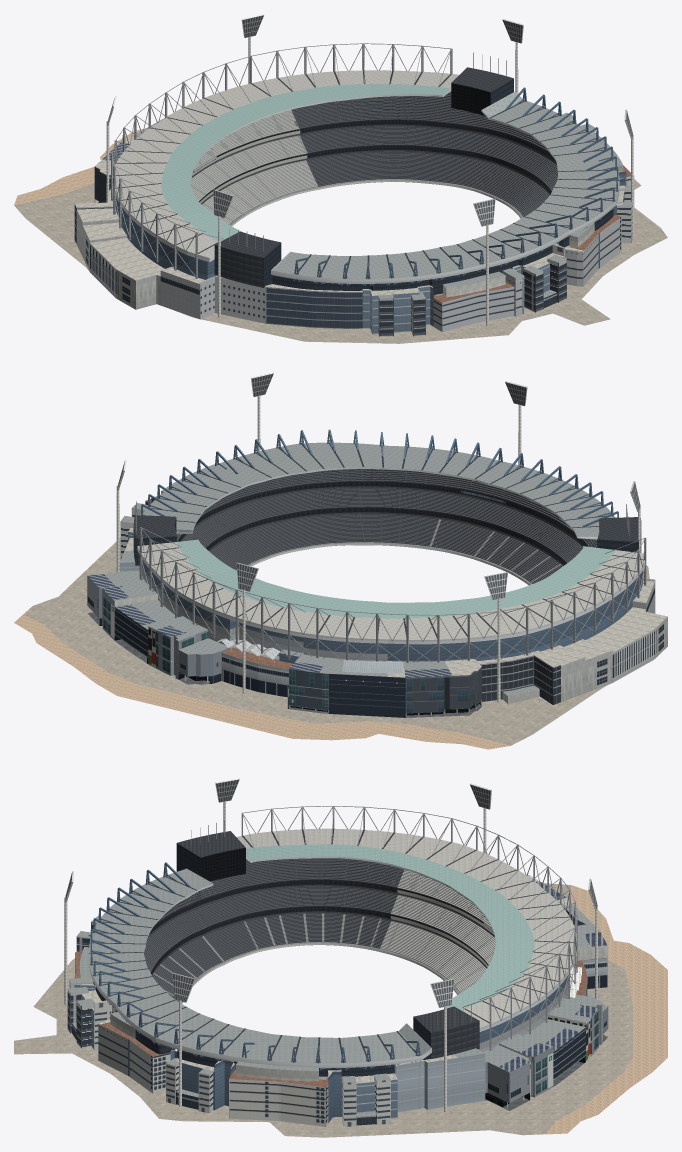
Rendered from mcg.glb.
The picture shows the model from 3 angles, top to bottom: view 1: azimuth 30°, elevation 25°; view 2: azimuth 150°, elevation 25°; view 3: azimuth 270°, elevation 25°; orthographic projection. The views are drawn at different scales.
Parts seen in each view (by area): view 1: bowl, roof, plaza, canopy, masts, screens, trusses, towers; view 2: bowl, roof, plaza, masts, trusses, towers, screens, canopy; view 3: bowl, roof, plaza, canopy, masts, screens, towers, trusses.
Boxes of the visible parts, bbox=[...] form: bowl: bbox=[74, 91, 634, 334]; roof: bbox=[112, 70, 619, 283]; plaza: bbox=[14, 128, 667, 343]; canopy: bbox=[378, 112, 632, 336]; masts: bbox=[111, 43, 452, 279]; screens: bbox=[214, 52, 513, 287]; trusses: bbox=[293, 87, 618, 285]; towers: bbox=[106, 14, 633, 325]; bowl: bbox=[87, 469, 667, 717]; roof: bbox=[133, 442, 645, 644]; plaza: bbox=[14, 538, 649, 749]; masts: bbox=[139, 527, 646, 662]; trusses: bbox=[137, 429, 618, 527]; towers: bbox=[116, 372, 640, 702]; screens: bbox=[133, 501, 641, 565]; canopy: bbox=[94, 464, 539, 703]; bowl: bbox=[70, 858, 608, 1126]; roof: bbox=[89, 828, 576, 1068]; plaza: bbox=[14, 883, 667, 1137]; canopy: bbox=[67, 900, 602, 1126]; masts: bbox=[241, 806, 577, 1050]; screens: bbox=[176, 820, 479, 1058]; towers: bbox=[64, 778, 598, 1111]; trusses: bbox=[90, 862, 420, 1070].
Size of the model in its own units: 321 by 78.07 by 338.
Materials: 89 (89 with a texture image).
